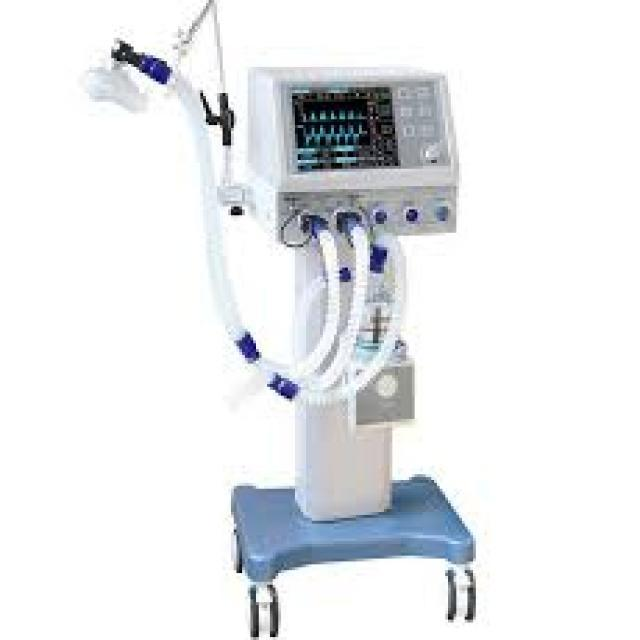ventilator: (61, 1, 520, 622)
